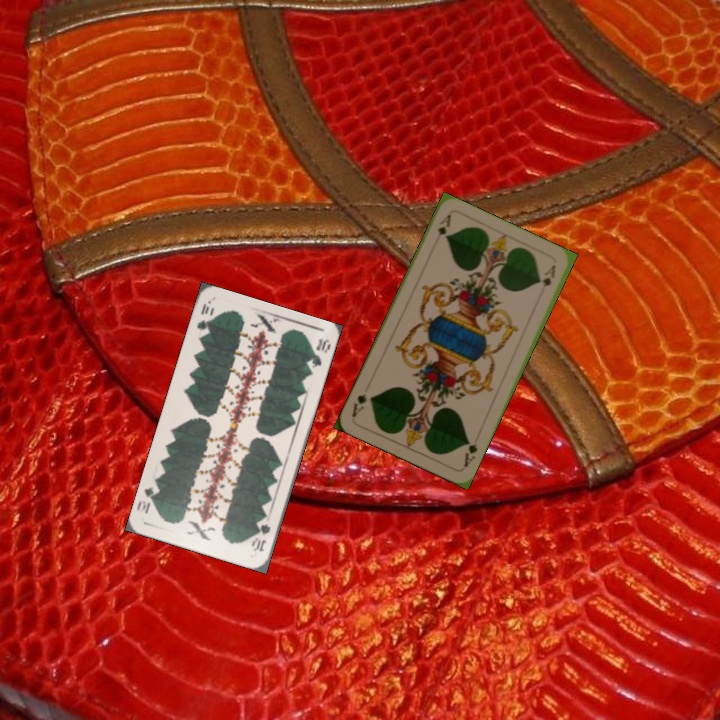G10: (249, 520, 273, 554), (193, 299, 213, 333)
GA: (431, 210, 454, 249), (459, 437, 480, 470)
